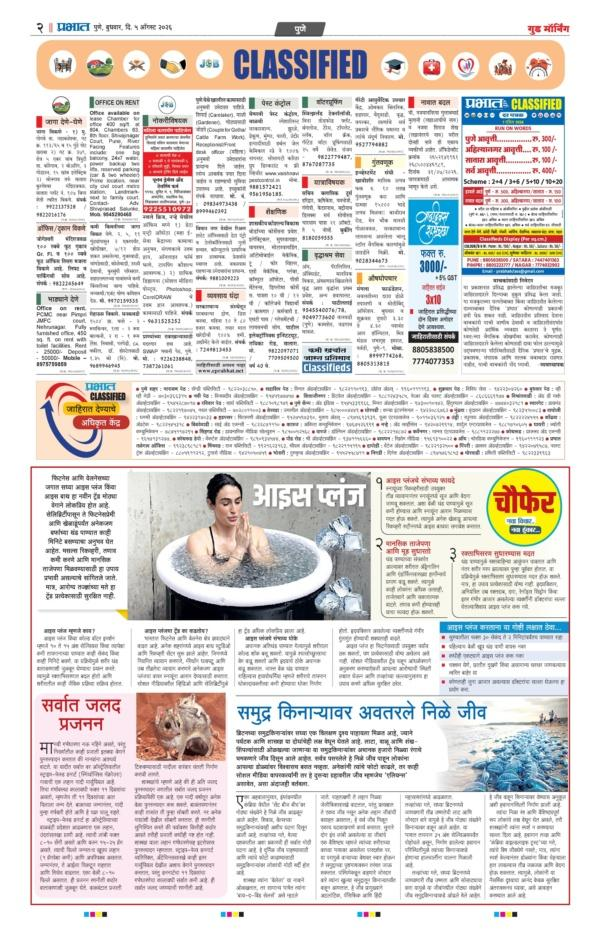Article: (15, 33, 577, 379), (20, 463, 588, 693), (225, 695, 576, 912), (18, 380, 581, 466), (15, 686, 224, 906)
